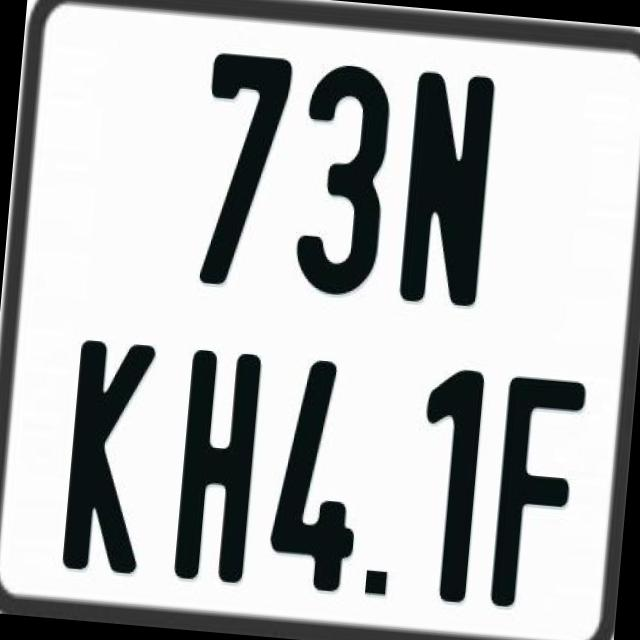1: (406, 367, 484, 602)
3: (289, 57, 392, 297)
4: (264, 354, 368, 590)
7: (191, 50, 298, 288)
F: (488, 372, 593, 612)
H: (170, 349, 262, 591)
K: (58, 334, 152, 571)
N: (395, 70, 494, 311)
